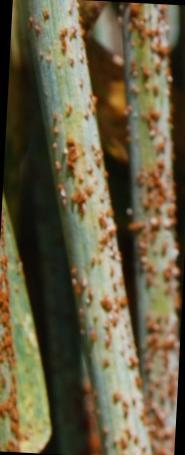Wheat: (125, 6, 181, 454), (32, 111, 136, 351)
